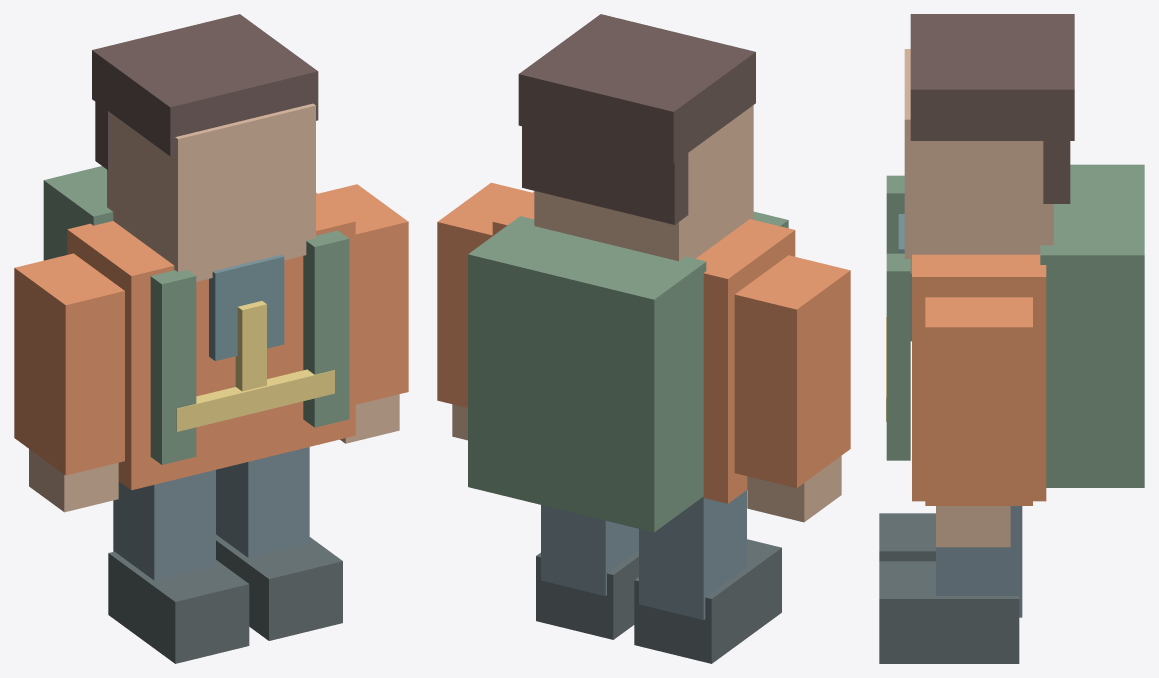
The model's file is explorer_2025.gltf.
3 renders of one model, left to right at view 1: azimuth 30°, elevation 25°; view 2: azimuth 150°, elevation 25°; view 3: azimuth 270°, elevation 25°, orthographic. The views are drawn at different scales.
Parts seen in each view (by area): view 1: explorer_2025; view 2: explorer_2025; view 3: explorer_2025.
Part boxes in pixels (box(x1,y1,x2,y2)): explorer_2025: box(14, 14, 408, 663); explorer_2025: box(437, 14, 850, 663); explorer_2025: box(879, 14, 1144, 663).
Size of the model in its own units: 1.39 by 2.11 by 0.89.
